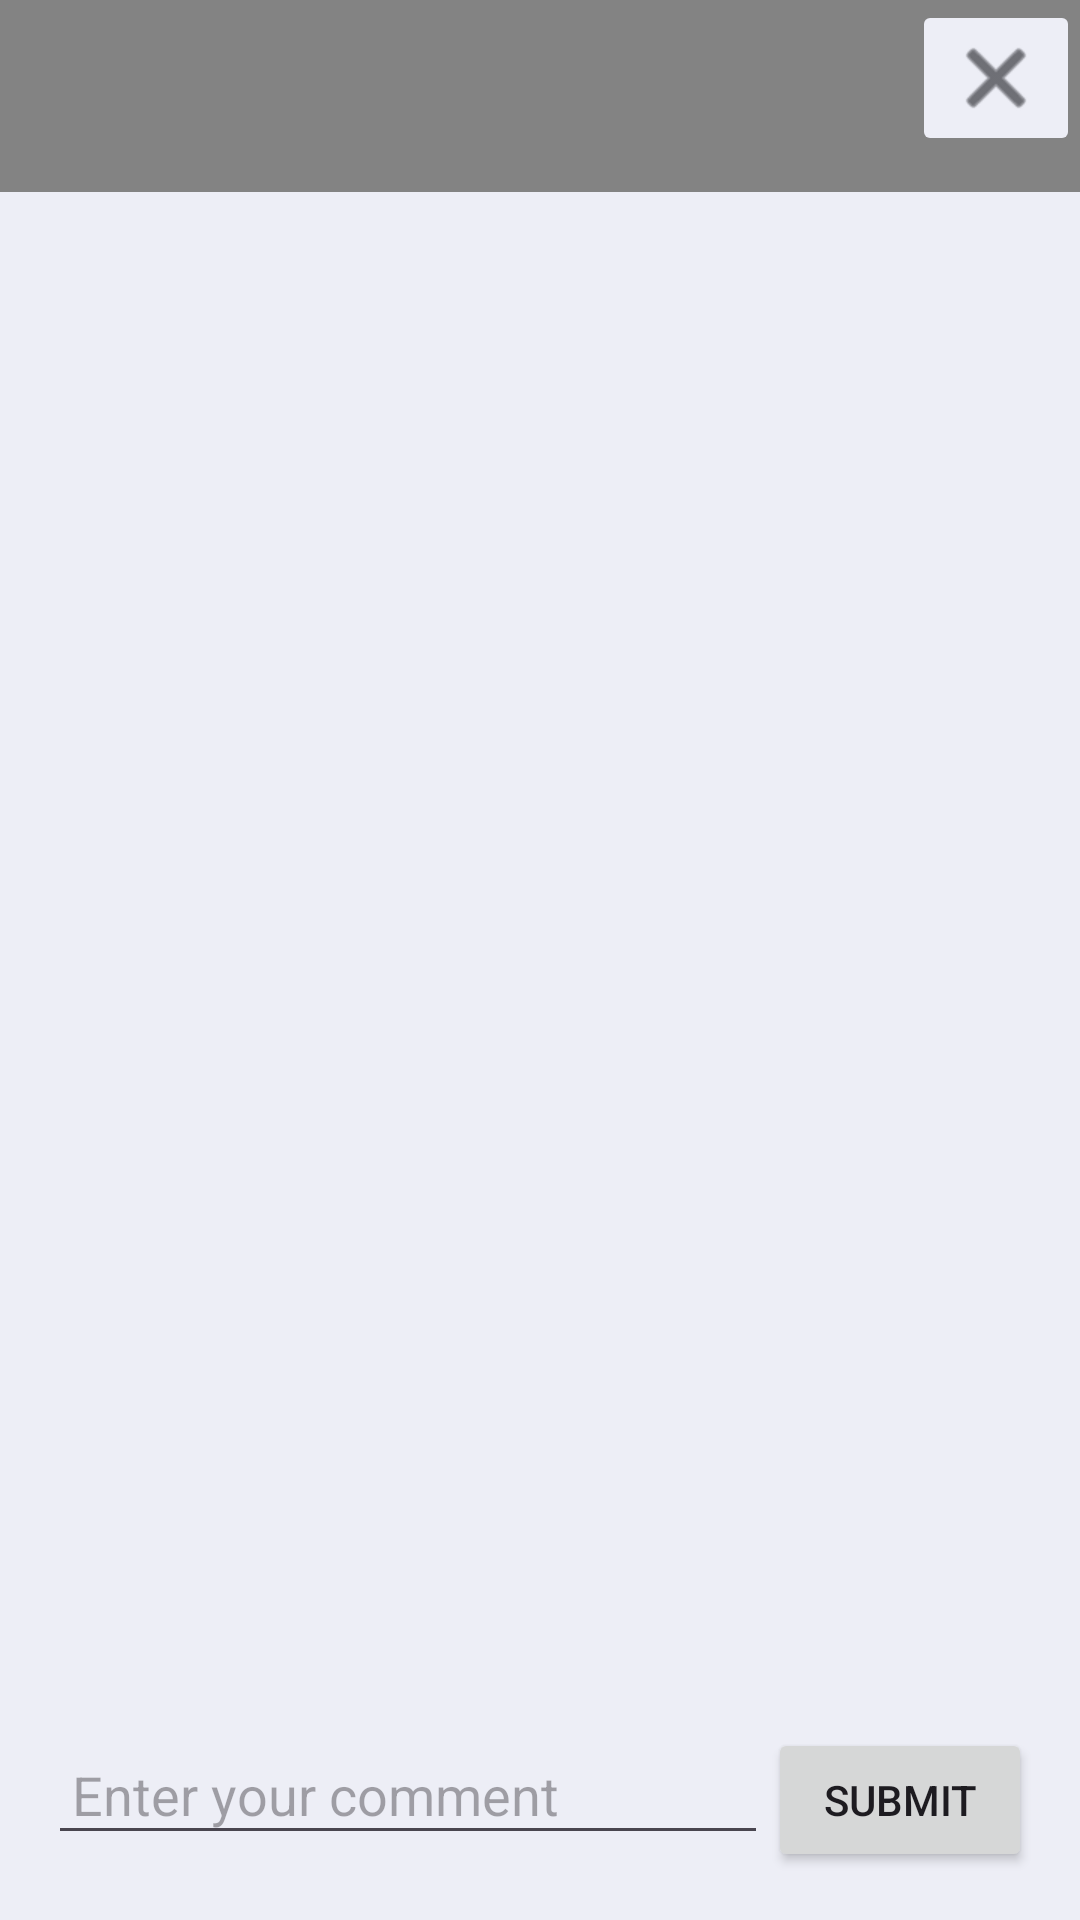

Icon click points for this 1080px x 1920px phone screenshot, format (x,y):
close clear cancel: (996,78)
